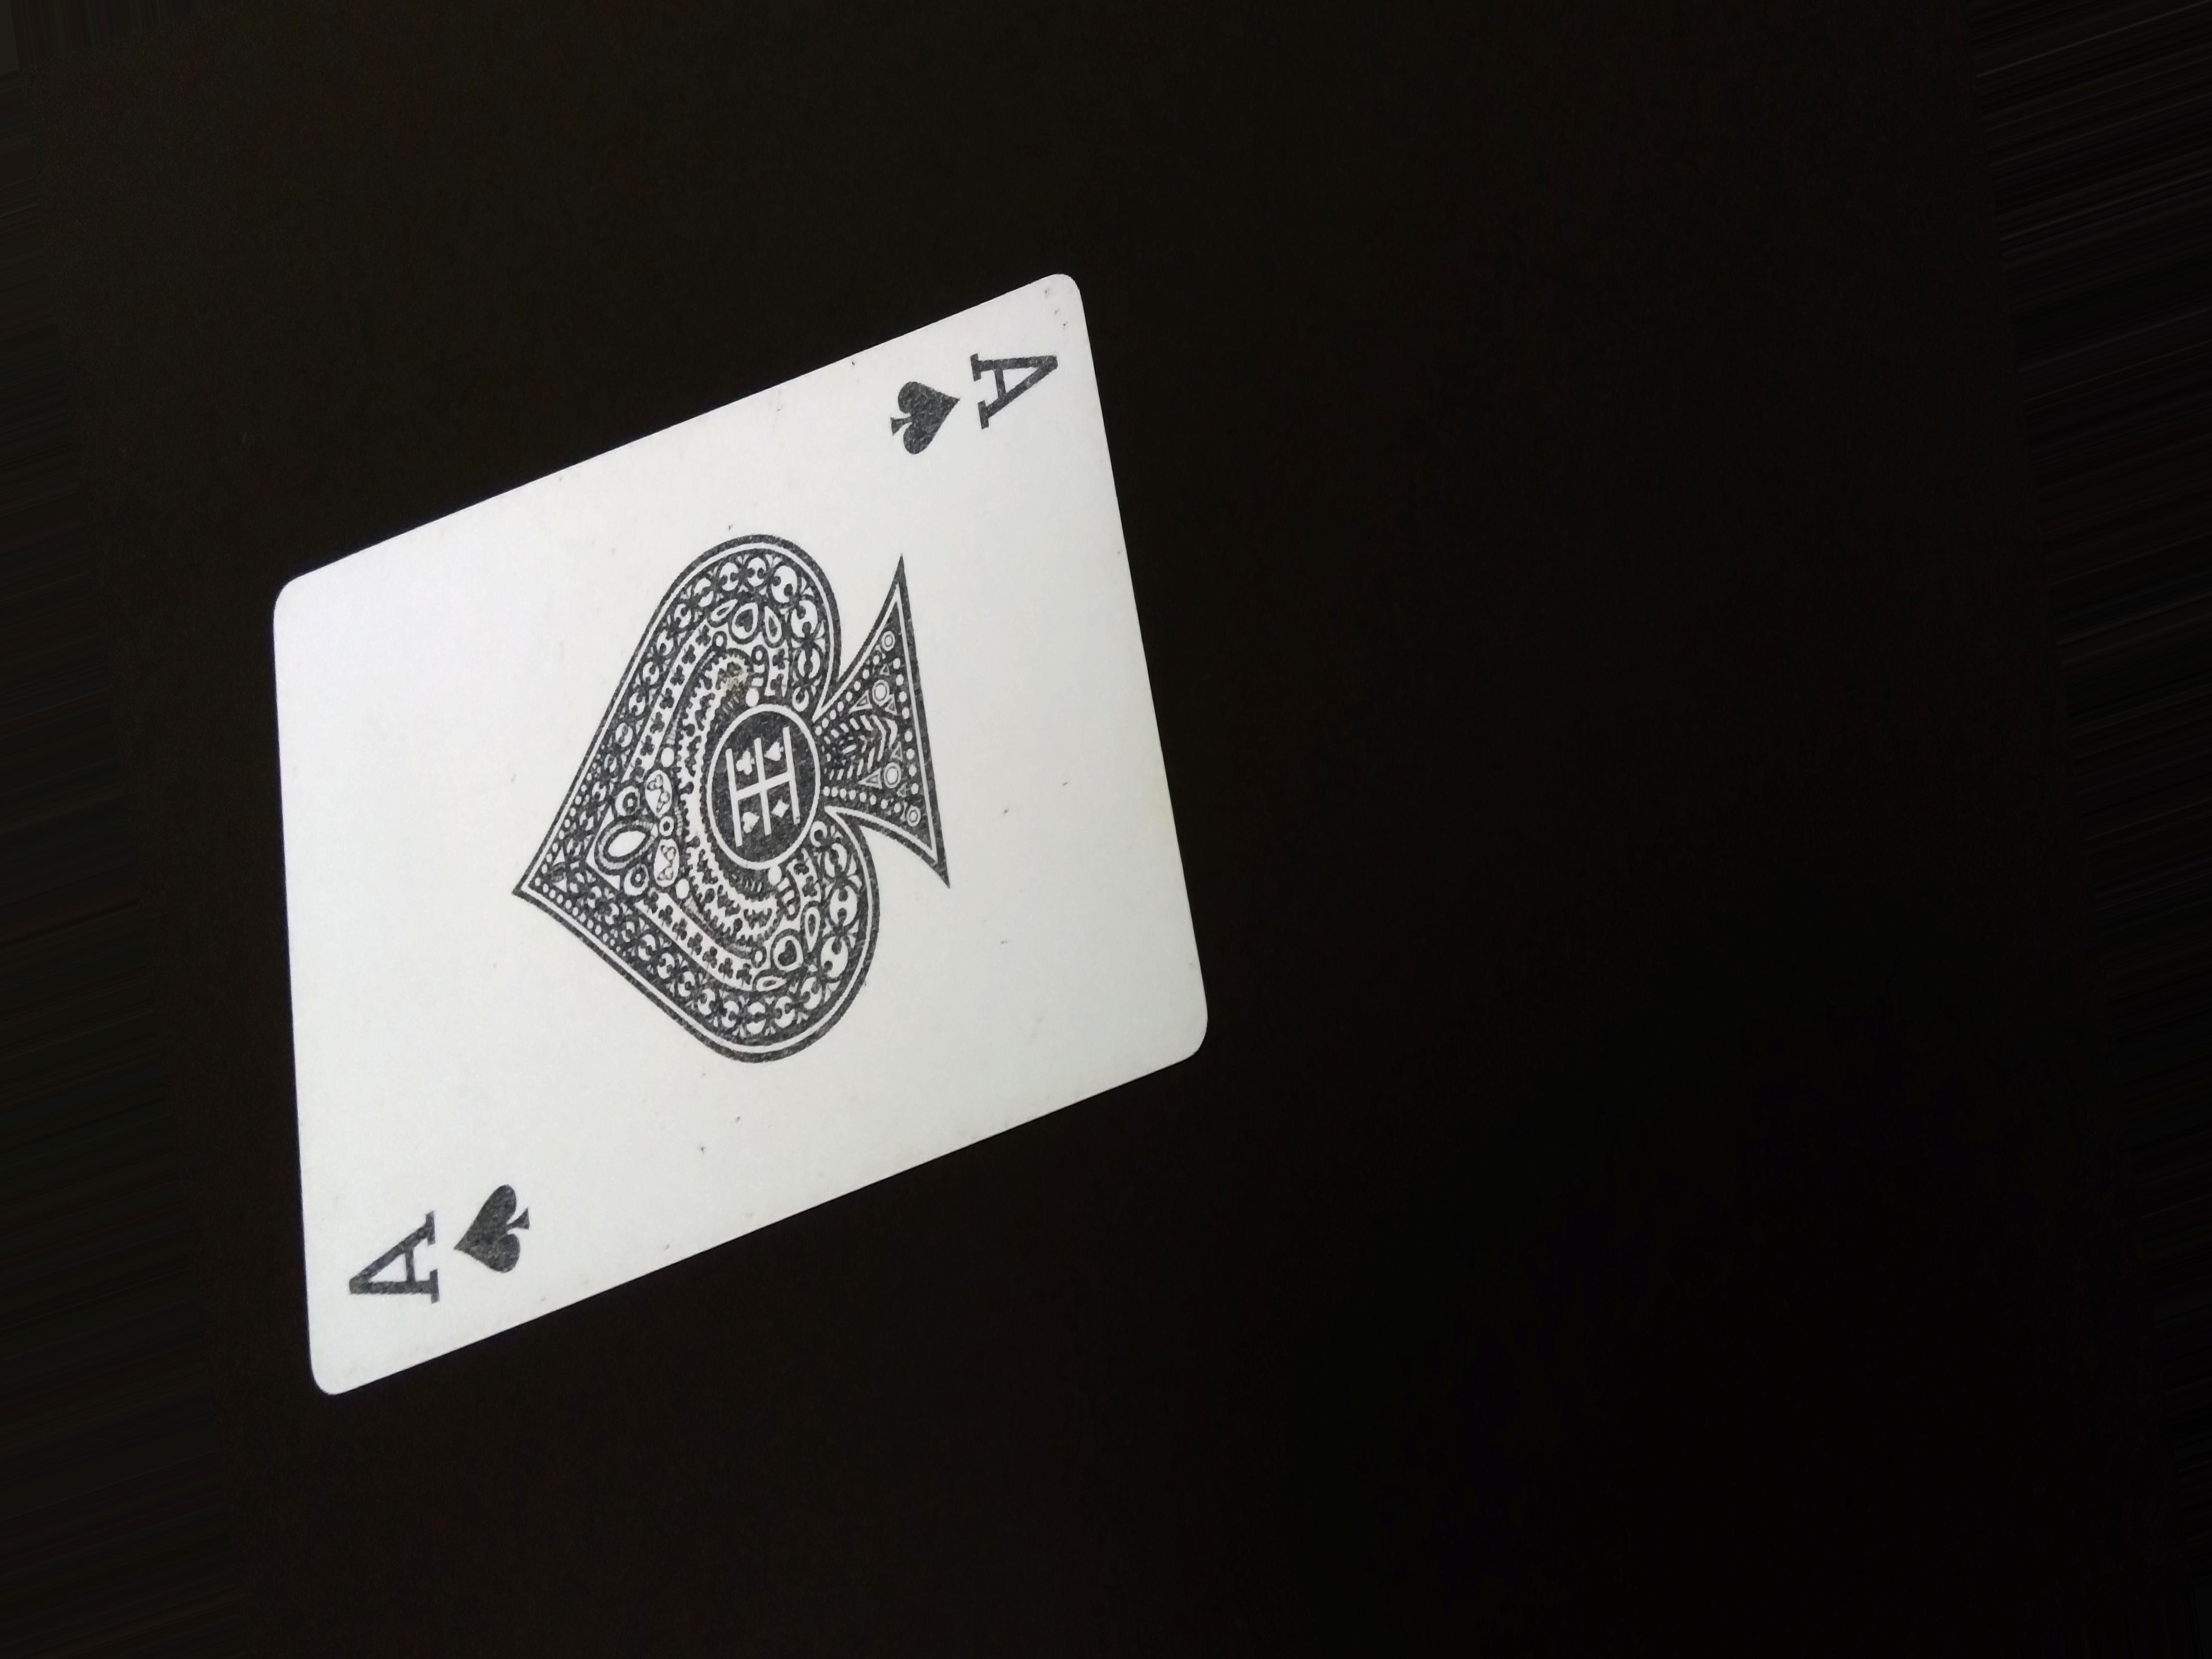AS: (881, 328, 1073, 467)
